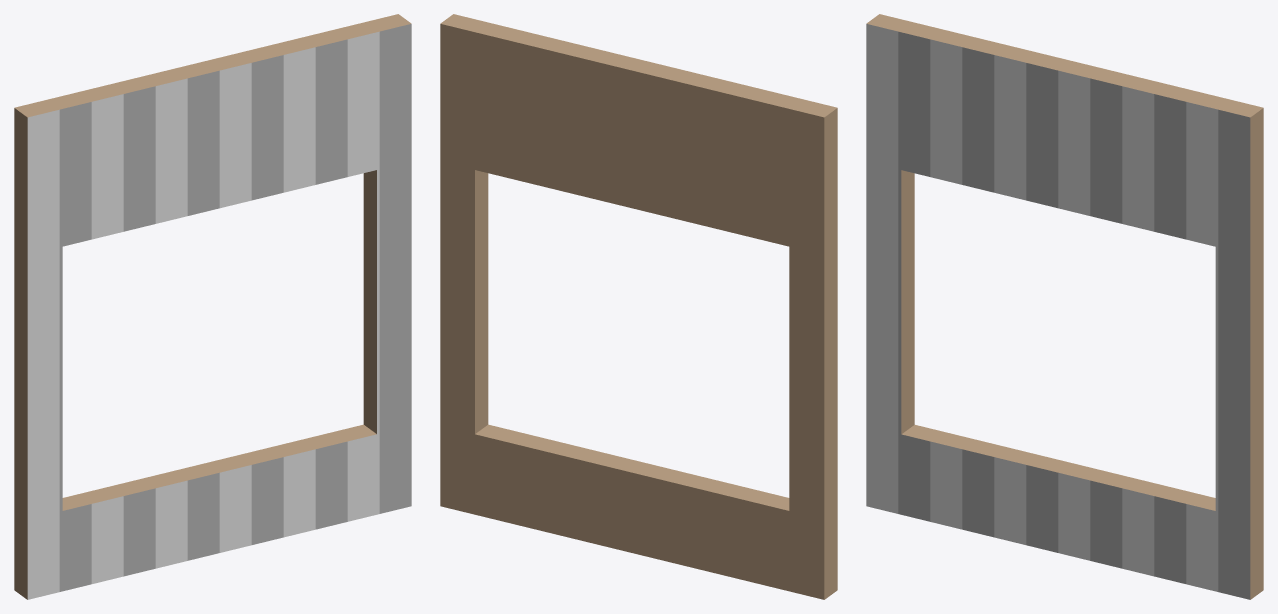
File: Wall2_C8_05.fbx
3 renders of one model, left to right at view 1: azimuth 30°, elevation 25°; view 2: azimuth 150°, elevation 25°; view 3: azimuth 330°, elevation 25°, orthographic.
Parts seen in each view (by area): view 1: Wall2_C8_05; view 2: Wall2_C8_05; view 3: Wall2_C8_05.
Boxes of the visible parts, box(x1,y1,x2,y2) form: Wall2_C8_05: box(14, 14, 411, 599); Wall2_C8_05: box(440, 14, 837, 599); Wall2_C8_05: box(866, 14, 1263, 599).
Size of the model in its own units: 250 by 300 by 15.
